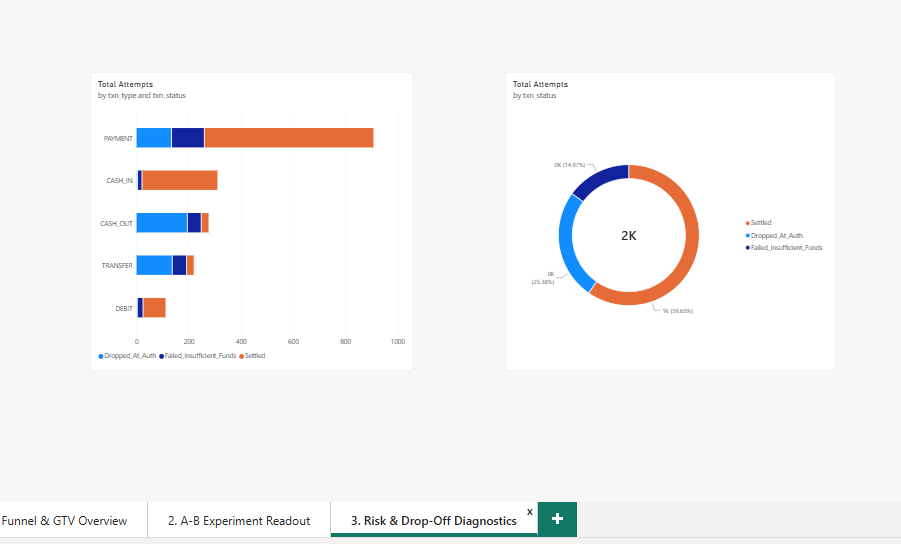

This screenshot's page, from the dashboard's own definition file:
{"tool":"powerbi","page":{"name":"3. Risk & Drop-Off Diagnostics","canvas":[1920,1080],"ordinal":2},"visuals":[{"type":"barChart","fields":{"Category":["public fact_transactions.txn_type"],"Series":["public fact_transactions.txn_status"],"Y":["public fact_transactions.Total Attempts"]},"box":[191.3,165.8,686.7,635.7],"z":0},{"type":"donutChart","fields":{"Category":["public fact_transactions.txn_status"],"Y":["public fact_transactions.Total Attempts"]},"box":[1073.6,165.8,701.6,635.7],"z":1}]}

Visuals, with their boxes on the page's 1920x1080 design canvas (x1, y1, x2, y2). These are canvas units, not pixel positions in the 901x544 screenshot, which may show the page scaled, cropped or inside an application window:
barChart - public fact_transactions.txn_type x public fact_transactions.txn_status: region(191, 166, 878, 802)
donutChart - public fact_transactions.txn_status x public fact_transactions.Total Attempts: region(1074, 166, 1775, 802)
